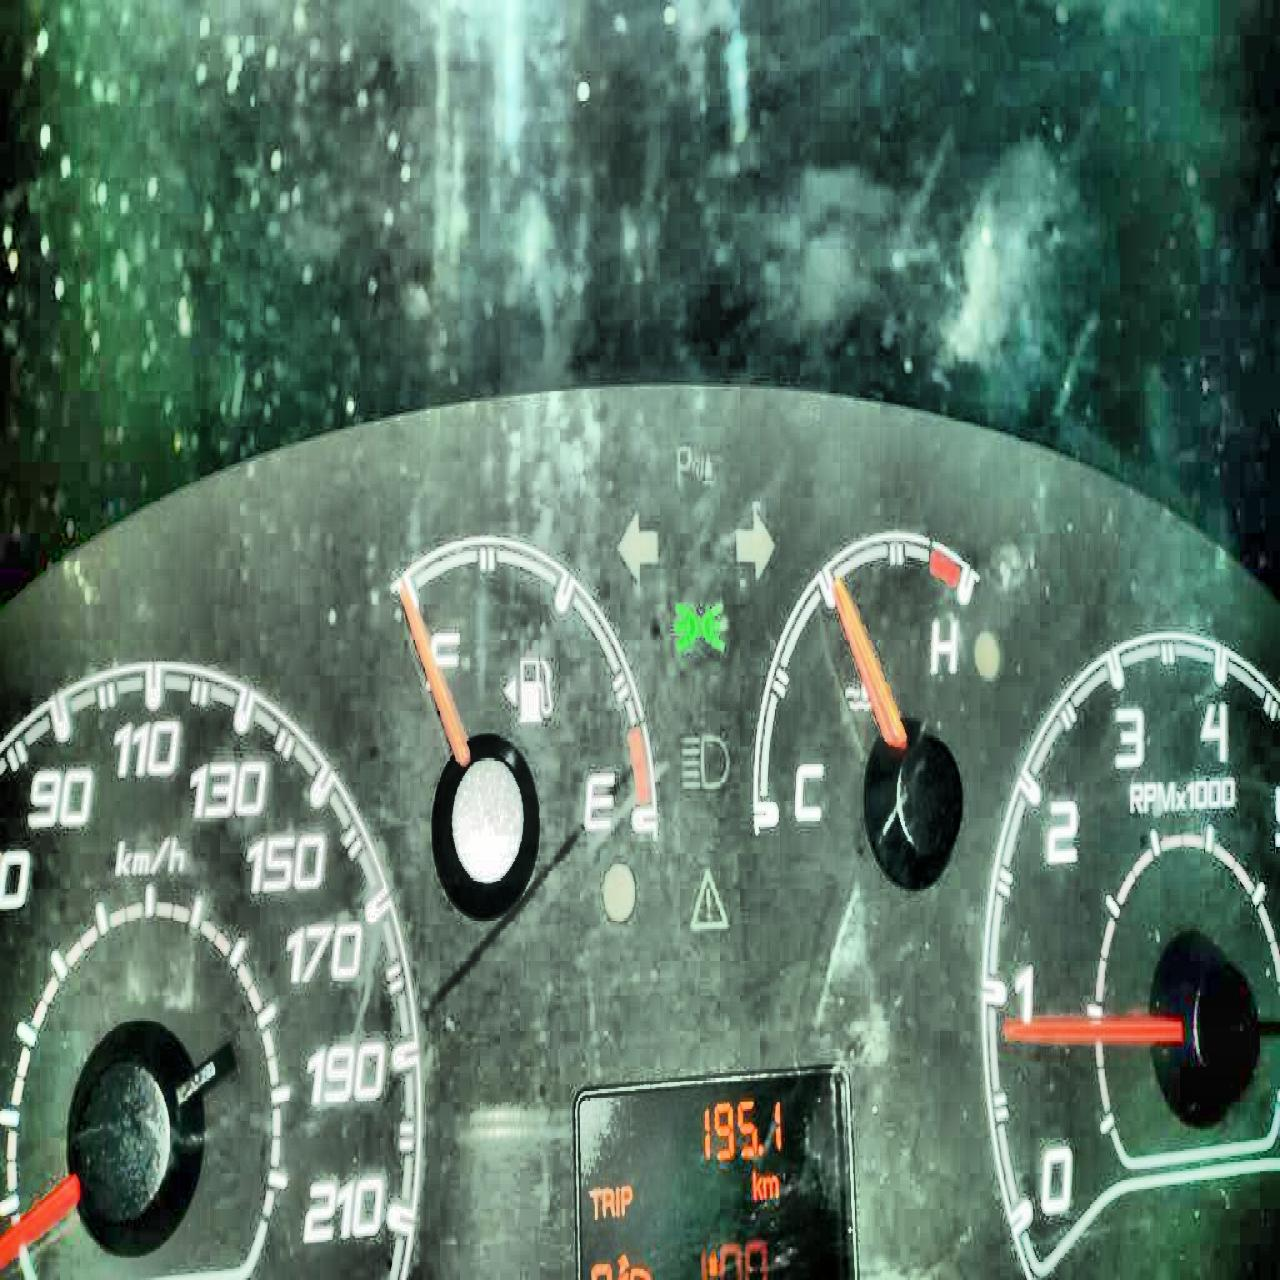-: (757, 1138, 763, 1160)
1: (770, 1094, 784, 1153), (699, 1099, 712, 1160)
5: (735, 1096, 757, 1157)
9: (712, 1098, 733, 1160)
X: (586, 1182, 601, 1220), (601, 1182, 614, 1220), (762, 1171, 779, 1198), (620, 1180, 632, 1218), (749, 1166, 761, 1200), (614, 1184, 620, 1220)
odometer: (567, 1058, 860, 1278)
